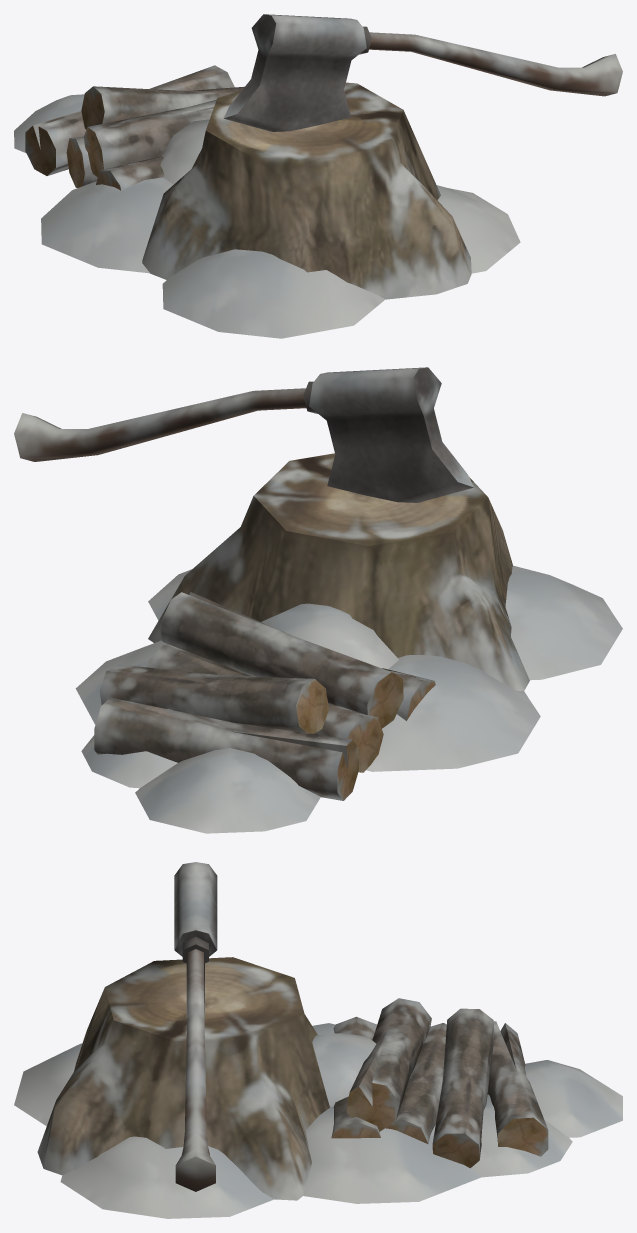
Rendered from snow_a_r01.fbx.
3 views of the same model, one above another, from view 1: azimuth 30°, elevation 25°; view 2: azimuth 150°, elevation 25°; view 3: azimuth 270°, elevation 25° (orthographic). The views are drawn at different scales.
Visible parts, largest first — view 1: snow_a_r01; view 2: snow_a_r01; view 3: snow_a_r01.
Boxes of the visible parts, x1=… form: snow_a_r01: x1=14, y1=14, x2=622, y2=338; snow_a_r01: x1=14, y1=367, x2=622, y2=833; snow_a_r01: x1=14, y1=862, x2=622, y2=1218.
Size of the model in its own units: 244 by 114 by 252.
